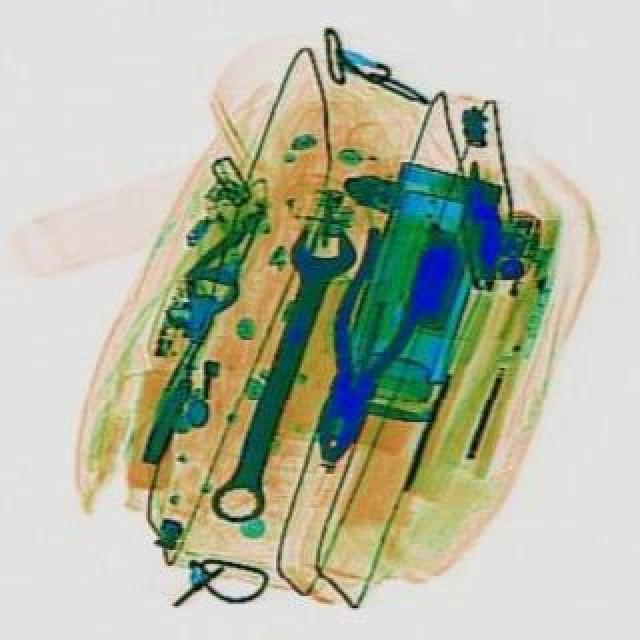scissors: (196, 218, 360, 526)
wrench: (284, 206, 444, 470)
